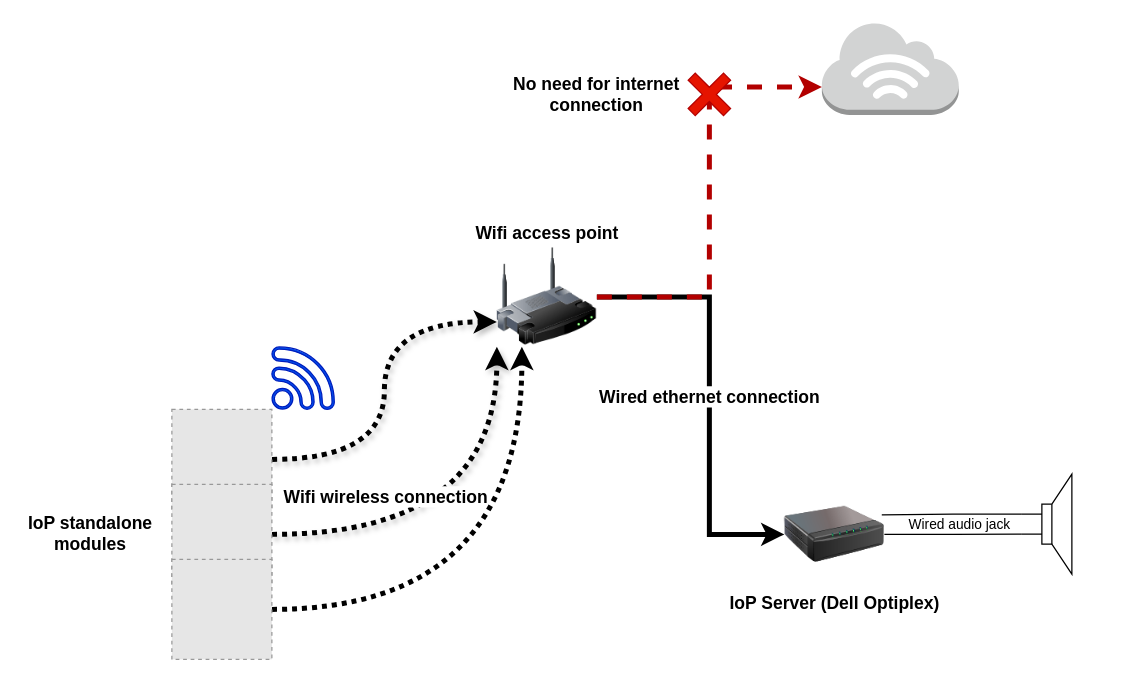
The diagram is 1121 pixels wide and 681 high, and some of its shapes have lost their labels. Grey dashed boxes stand in for pictures. Here are the shapes that lost their labels. From the top down, the centre of each, then its label:
At (890,68): "The Internet".
At (1046,523): "Speaker output".
